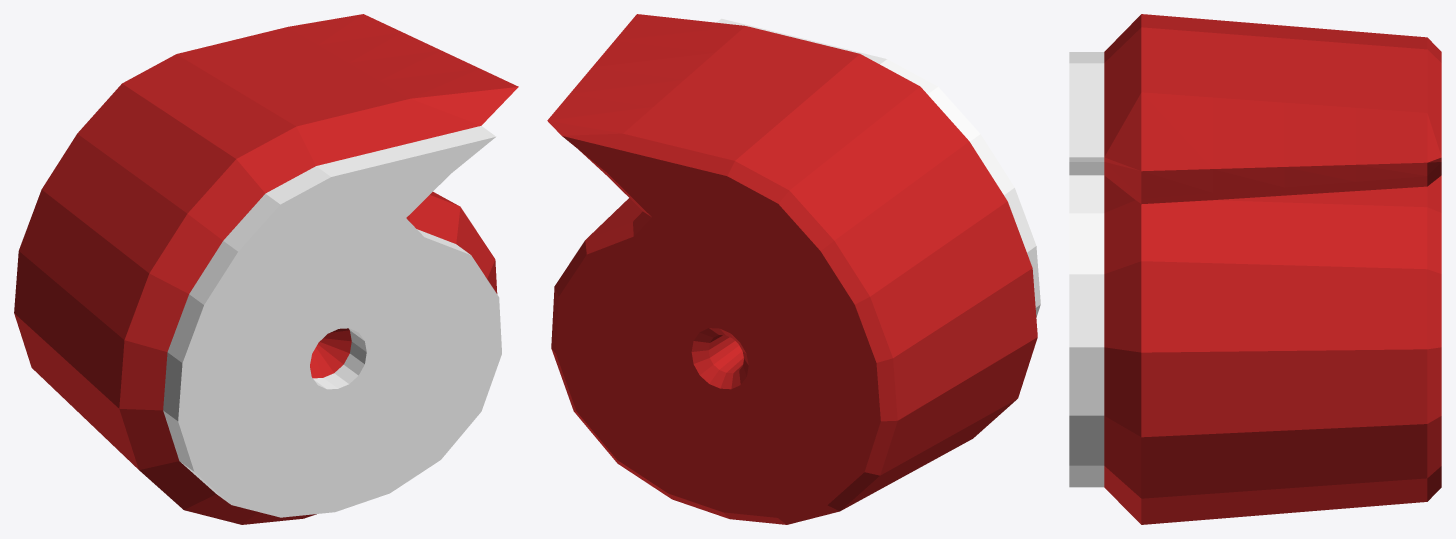
3 renders of one model, left to right at view 1: azimuth 30°, elevation 25°; view 2: azimuth 150°, elevation 25°; view 3: azimuth 270°, elevation 25°, orthographic. The views are drawn at different scales.
Parts seen in each view (by area): view 1: MoText_1; view 2: MoText_1; view 3: MoText_1.
Boxes of the visible parts, box(x1,y1,x2,y2) form: MoText_1: box(14, 14, 518, 524); MoText_1: box(547, 14, 1040, 524); MoText_1: box(1069, 14, 1441, 524).
Bounding box in the file's own units: 188 × 178 × 130.
